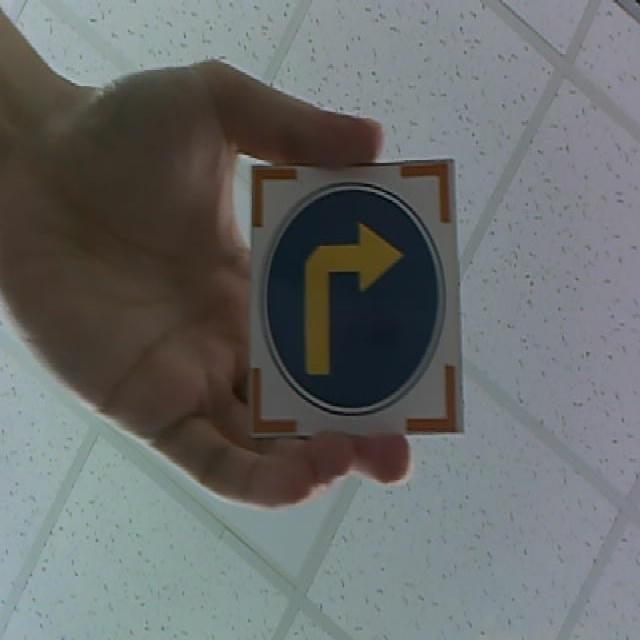right: (247, 159, 468, 437)
